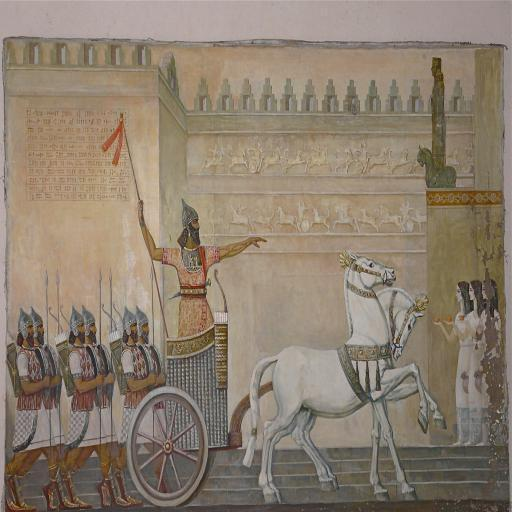horse: (240, 252, 448, 505), (264, 286, 430, 504)
